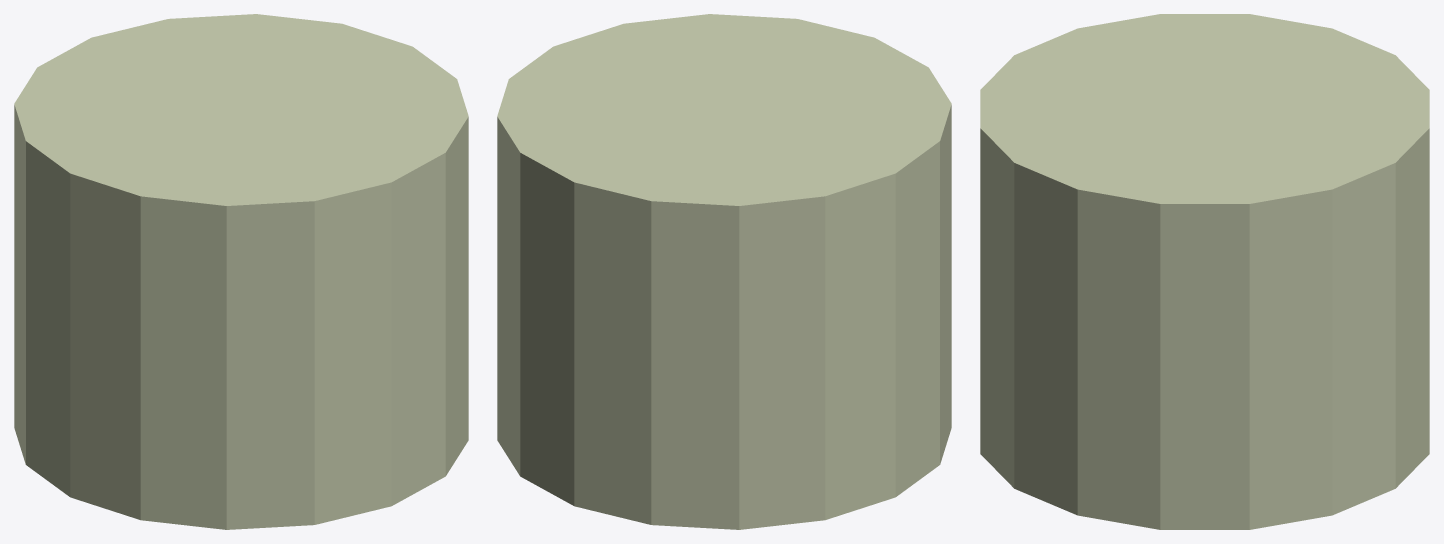
The model's file is dalim_sensor_radiometer_s0_1_collider.obj.
The picture shows the model from 3 angles, left to right: view 1: azimuth 30°, elevation 25°; view 2: azimuth 150°, elevation 25°; view 3: azimuth 270°, elevation 25°; orthographic projection.
Visible parts, largest first — view 1: dalim_sensor_radiometer_s0_1_collider; view 2: dalim_sensor_radiometer_s0_1_collider; view 3: dalim_sensor_radiometer_s0_1_collider.
Boxes of the visible parts, x1,y1,x2,y2 form: dalim_sensor_radiometer_s0_1_collider: (14, 14, 468, 529); dalim_sensor_radiometer_s0_1_collider: (497, 14, 951, 529); dalim_sensor_radiometer_s0_1_collider: (980, 14, 1429, 529).
Size of the model in its own units: 0.625 by 0.5 by 0.625.
